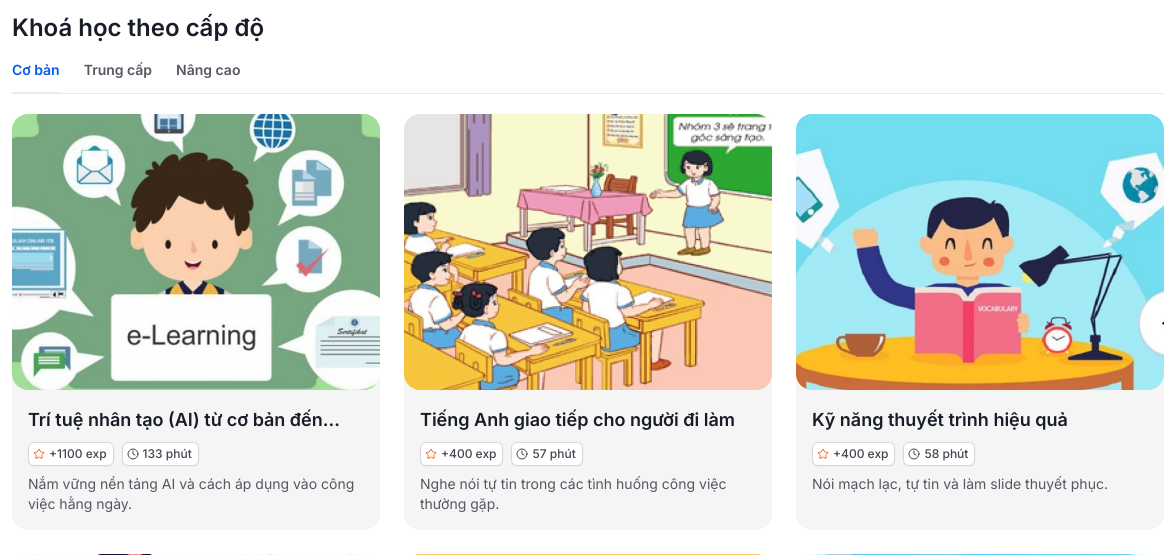
LevelTabs › switches the grid when another level tab is clicked
Click the tab "Nâng cao".
click(208, 77)  # box [176,60,240,94]
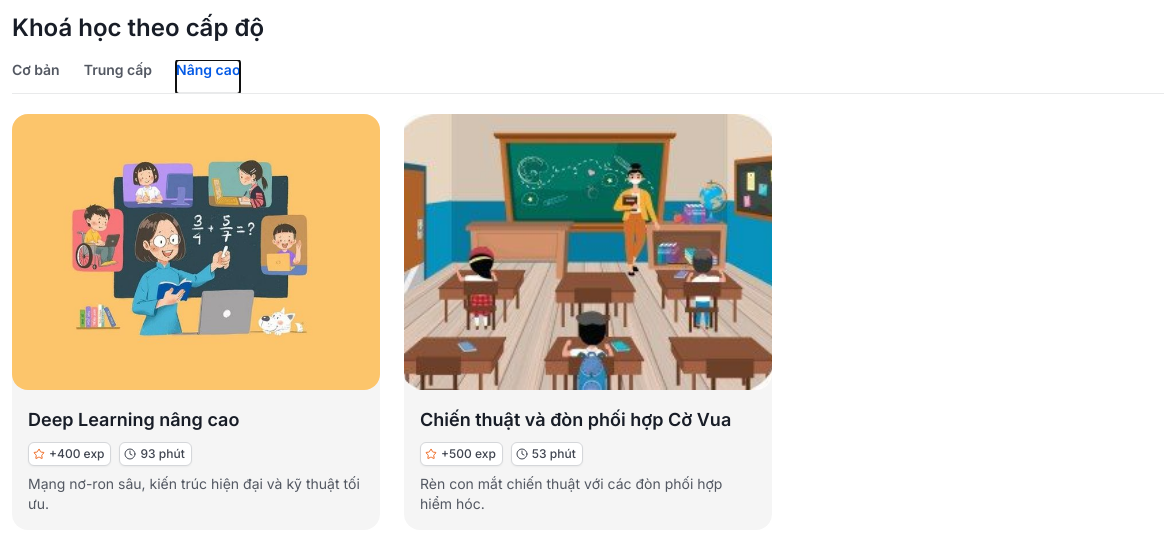
Result: the heading "Deep Learning nâng cao" is shown at [28,409,239,430]
Result: the link "Trí tuệ nhân tạo (AI) từ cơ bản" is gone
